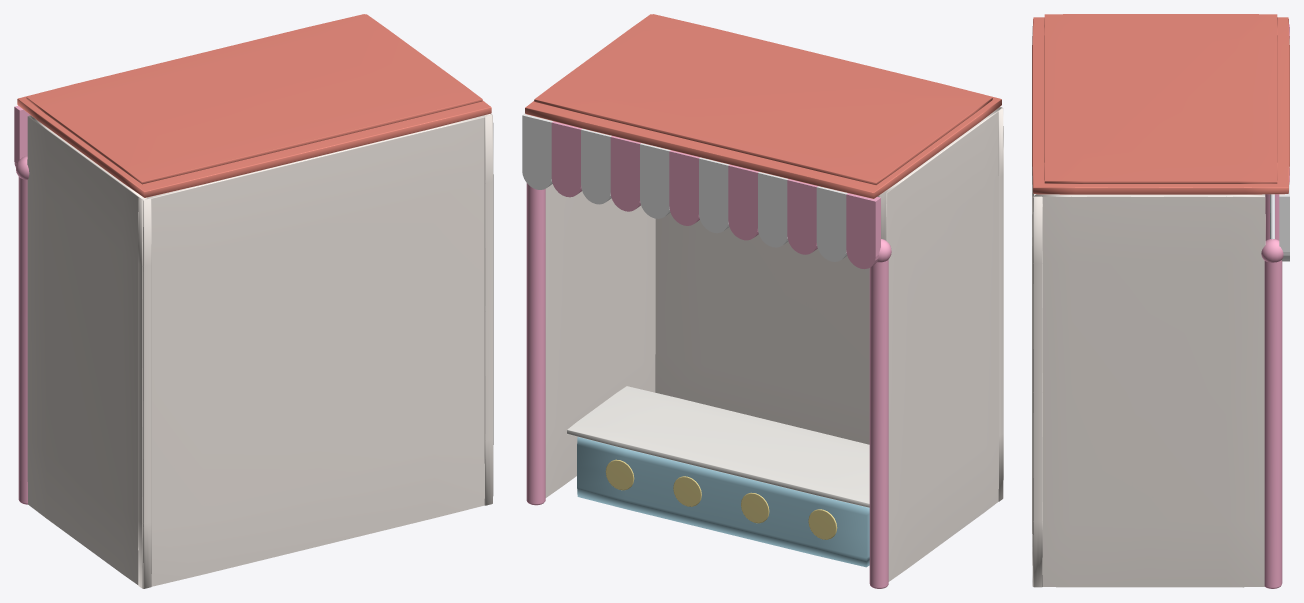
File: MessyMemoryBooth.glb
3 views of the same model, side by side, from view 1: azimuth 30°, elevation 25°; view 2: azimuth 150°, elevation 25°; view 3: azimuth 270°, elevation 25° (orthographic).
Visible parts, largest first — view 1: Wall, Roof, Post, Awning; view 2: Wall, Roof, CounterTop, Counter, Post, Awning, Awning2, Badges; view 3: Wall, Roof, Post, Awning2.
Boxes of the visible parts, x1,y1,x2,y2 form: Wall: (27,113,493,588); Roof: (17,14,491,197); Post: (16,156,29,504); Awning: (14,105,30,167); Wall: (545,107,1003,581); Roof: (525,14,1001,198); CounterTop: (567,386,869,507); Counter: (577,437,869,567); Post: (526,183,891,588); Awning: (551,121,880,269); Awning2: (522,113,847,261); Badges: (605,459,837,539); Wall: (1032,26,1265,587); Roof: (1032,14,1289,194); Post: (1261,194,1283,588); Awning2: (1279,39,1289,261).
Size of the model in its own units: 14.04 by 14.9 by 8.6.
